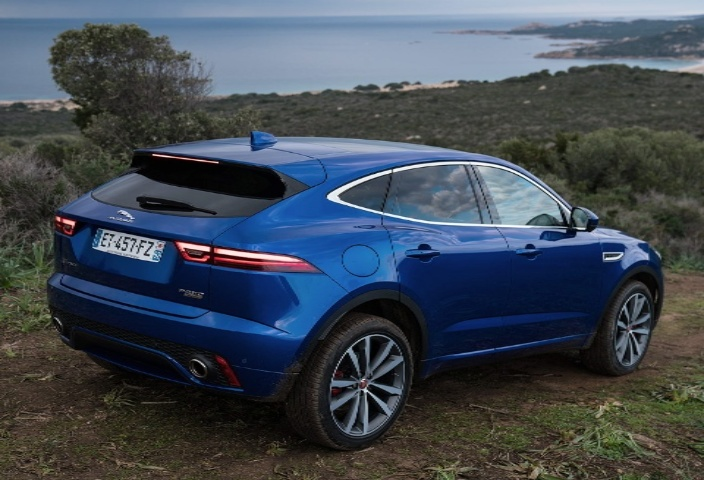camper: (36, 120, 665, 435)
